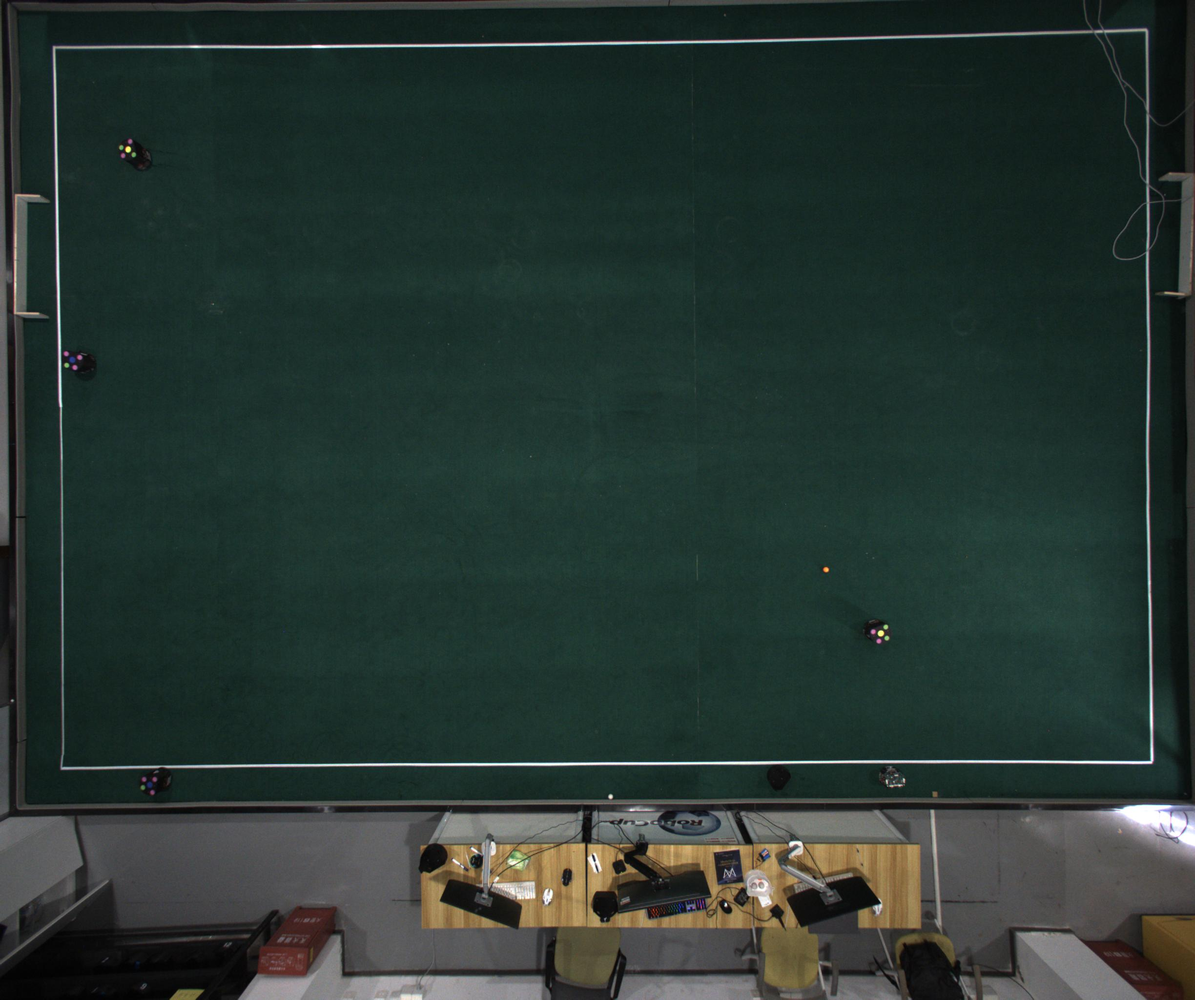ball: (823, 566, 829, 573)
blue_bot: (63, 350, 84, 371), (140, 775, 160, 796)
yellow_bot: (870, 623, 892, 644), (118, 139, 138, 161)
